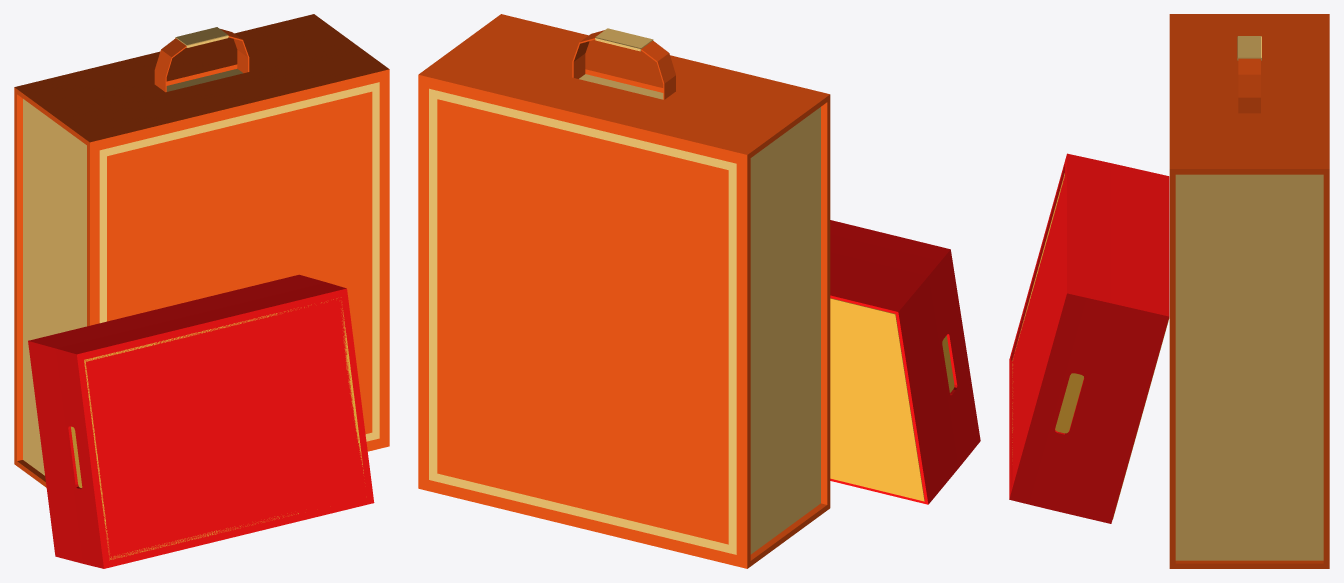
Rendered from Gift Box.fbx.
3 views of the same model, side by side, from view 1: azimuth 30°, elevation 25°; view 2: azimuth 150°, elevation 25°; view 3: azimuth 270°, elevation 25° (orthographic). The views are drawn at different scales.
Parts seen in each view (by area): view 1: Node 0, Node 1; view 2: Node 0, Node 1; view 3: Node 0, Node 1.
Part boxes in pixels (bbox=[...]): Node 0: bbox=[14, 14, 389, 487]; Node 1: bbox=[28, 274, 374, 568]; Node 0: bbox=[418, 14, 830, 568]; Node 1: bbox=[830, 220, 980, 504]; Node 0: bbox=[1169, 14, 1329, 568]; Node 1: bbox=[1009, 153, 1169, 523].
Bounding box in the file's own units: 0.2645 × 0.4066 × 0.3655.
